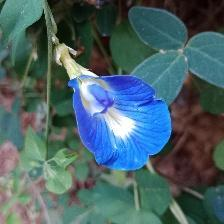shankupushpam: (64, 68, 178, 175)
